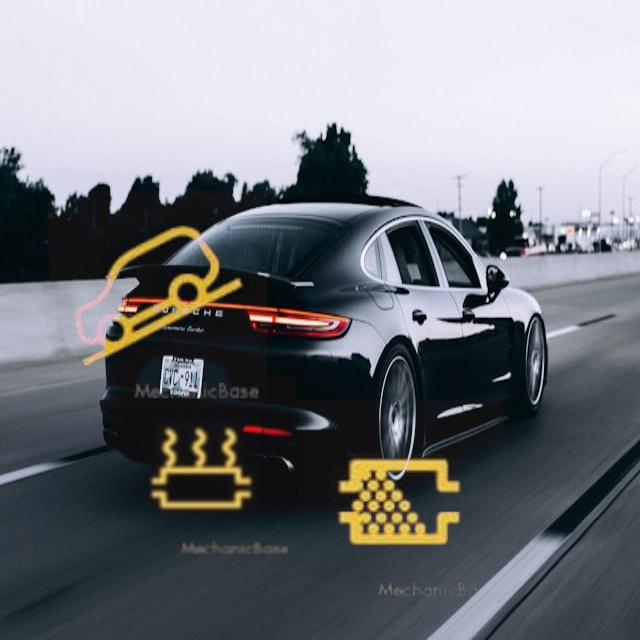symbol: (49, 191, 267, 409), (297, 400, 504, 607), (107, 375, 296, 564)
